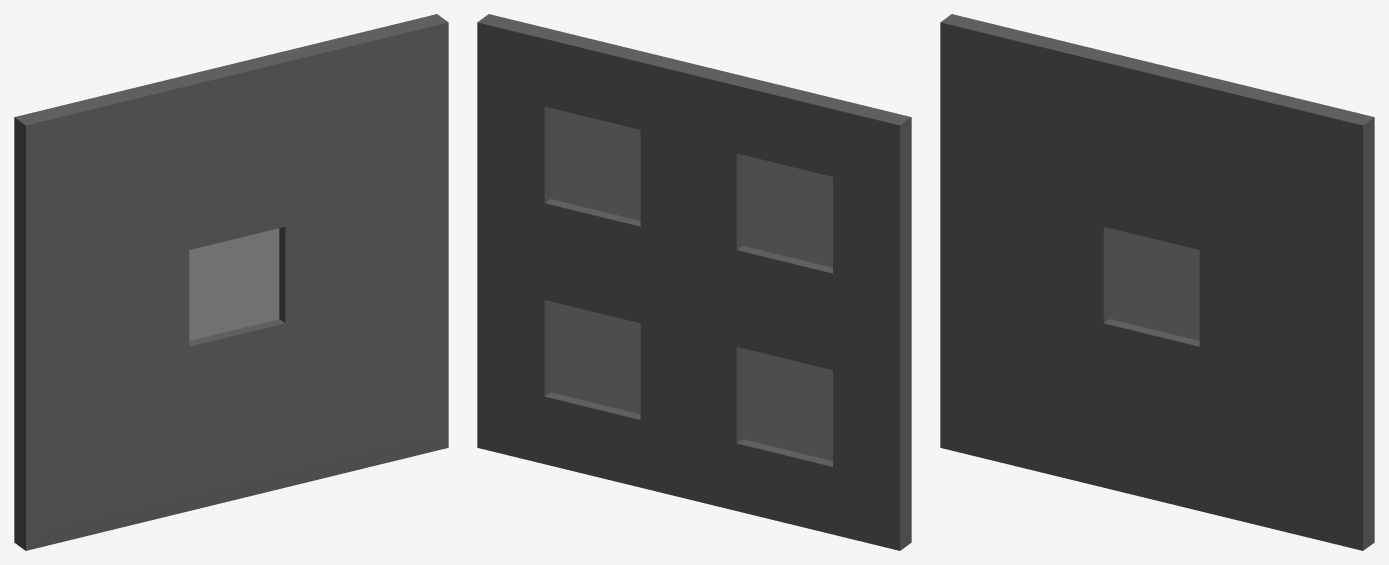
Rendered from WallGrate.fbx.
3 views of the same model, side by side, from view 1: azimuth 30°, elevation 25°; view 2: azimuth 150°, elevation 25°; view 3: azimuth 330°, elevation 25° (orthographic).
Visible parts, largest first — view 1: VentCover; view 2: VentCover; view 3: VentCover.
Part boxes in pixels (x1,y1,x2,y2): VentCover: (14, 14, 448, 550); VentCover: (477, 14, 911, 550); VentCover: (940, 14, 1374, 550).
Bounding box in the file's own units: 82.75 × 79.57 × 3.93.
